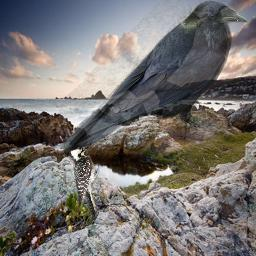Crow: (59, 0, 251, 154)
Woodpecker: (66, 144, 102, 220)
